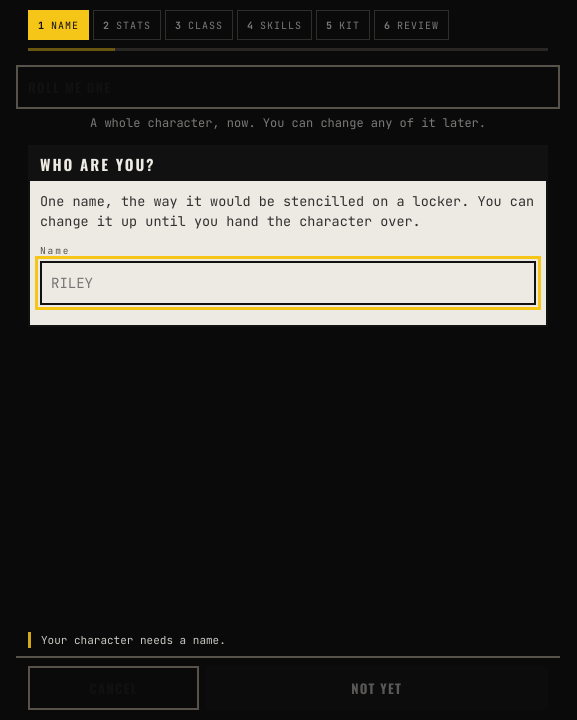
Scenario: building a character on a phone › will not leave the name step without a name
The width and height of the screenshot is (577, 720).
Expected: the button "Not yet" is disabled, left=205, top=666, right=548, bottom=710
Step 1. Type "ANA" into the field labelled "Name" → (288, 282), box left=40, top=260, right=536, bottom=304
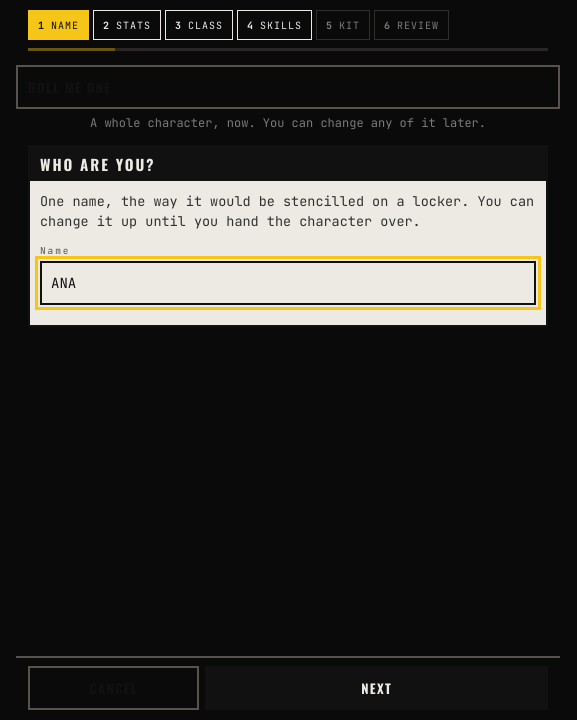
Expected: the button "Not yet" is enabled, left=205, top=666, right=548, bottom=710
